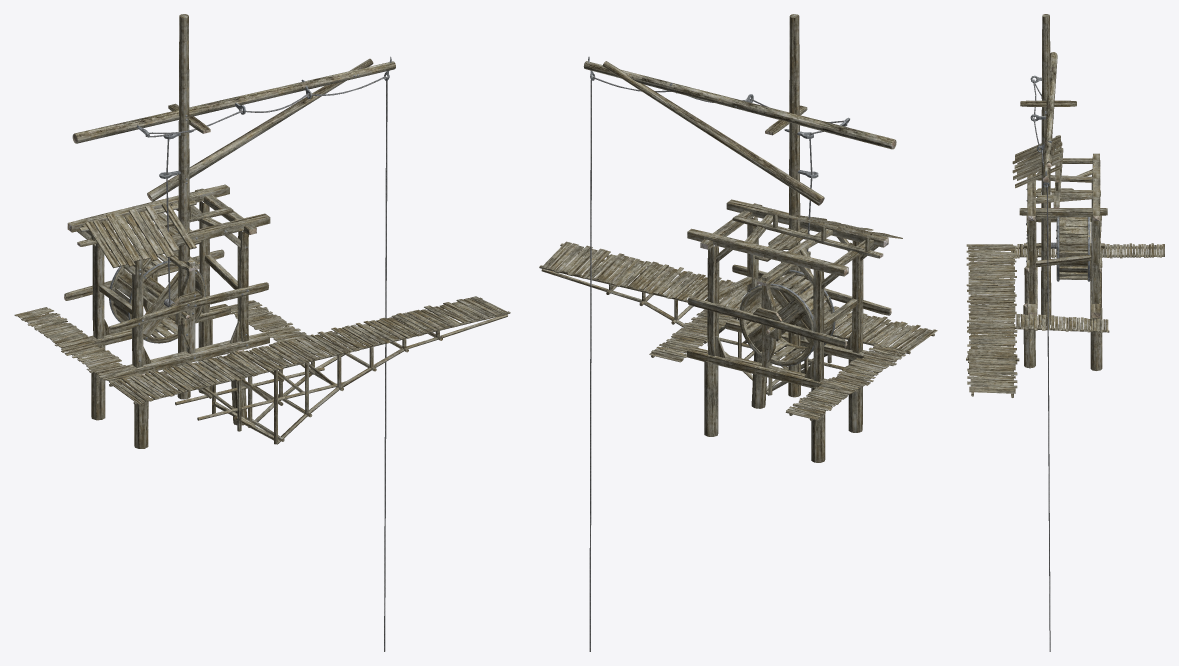
File: TW2_1_HUT_01_1-transformed.glb
3 views of the same model, side by side, from view 1: azimuth 30°, elevation 25°; view 2: azimuth 150°, elevation 25°; view 3: azimuth 270°, elevation 25° (orthographic). The views are drawn at different scales.
Parts seen in each view (by area): view 1: default; view 2: default; view 3: default.
Part boxes in pixels (x1,y1,x2,y2): default: [14, 14, 510, 651]; default: [539, 14, 937, 651]; default: [966, 14, 1164, 651].
Bounding box in the file's own units: 17.44 × 29.71 × 9.63.
4 materials, 4 textured.
